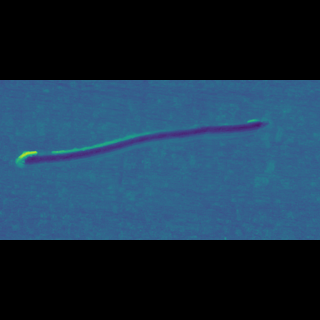Loch: (13, 138, 274, 165)
